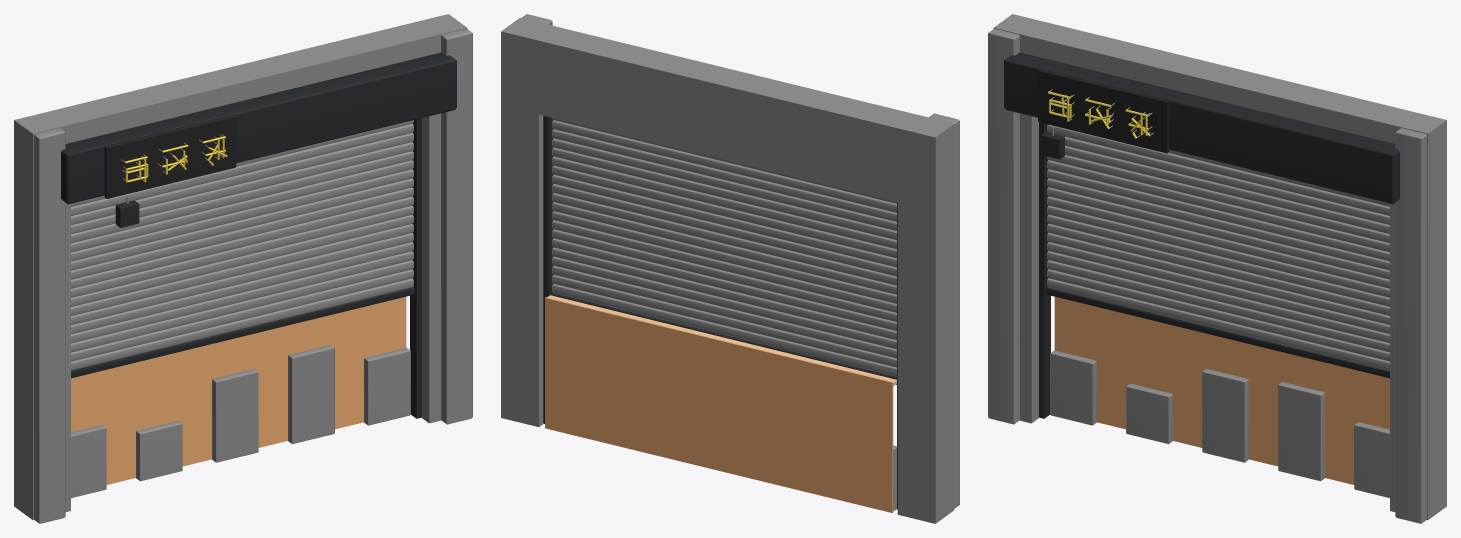
File: Building_Facade_Concrete_Shop_Shutter.fbx
The picture shows the model from 3 angles, left to right: view 1: azimuth 30°, elevation 25°; view 2: azimuth 150°, elevation 25°; view 3: azimuth 330°, elevation 25°; orthographic projection.
Visible parts, largest first — view 1: Building_Facade_Concrete_Shop_Shutter_LOD0; view 2: Building_Facade_Concrete_Shop_Shutter_LOD0; view 3: Building_Facade_Concrete_Shop_Shutter_LOD0.
Boxes of the visible parts, x1,y1,x2,y2 form: Building_Facade_Concrete_Shop_Shutter_LOD0: (14, 14, 472, 523); Building_Facade_Concrete_Shop_Shutter_LOD0: (501, 14, 959, 523); Building_Facade_Concrete_Shop_Shutter_LOD0: (988, 14, 1446, 523).
Size of what is drawn, in the model's own units: 4 by 3.4 by 0.62.
